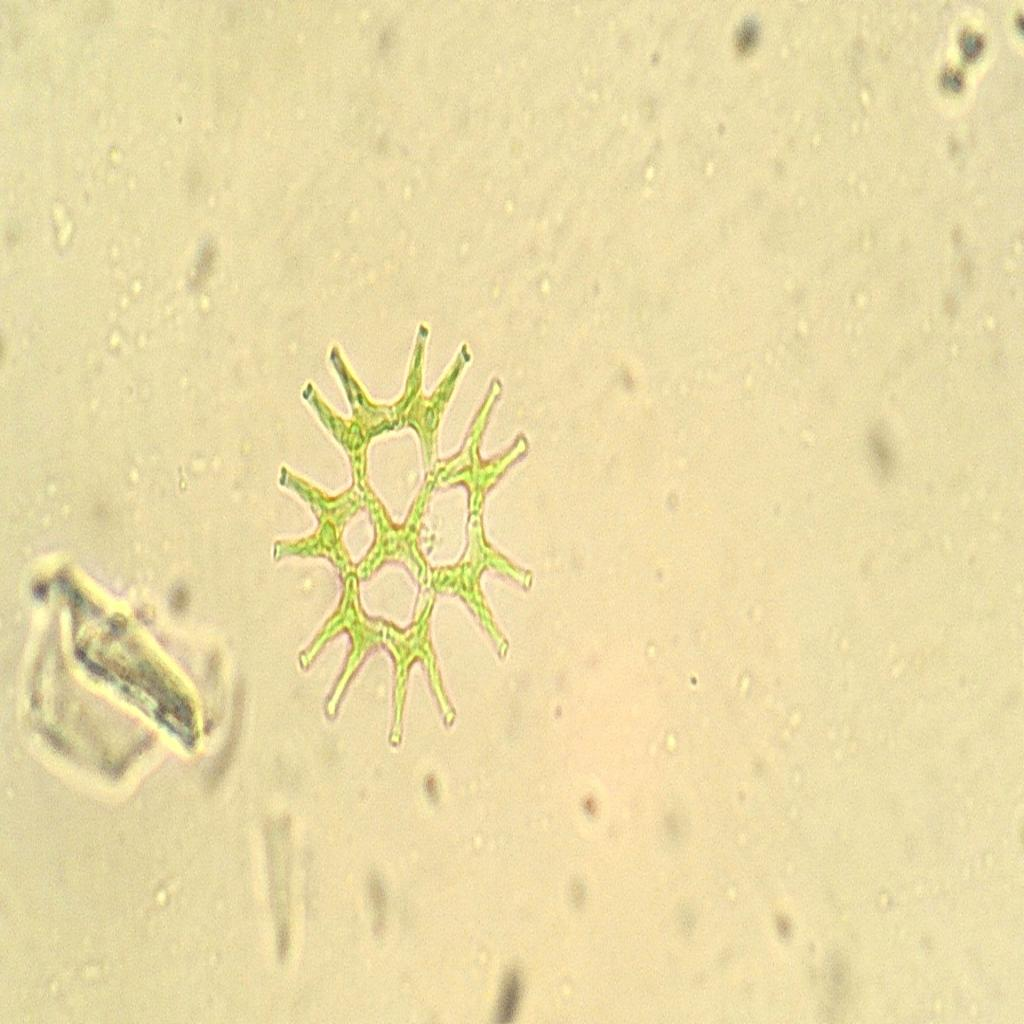Pediastrum_75T: (264, 298, 542, 777)
